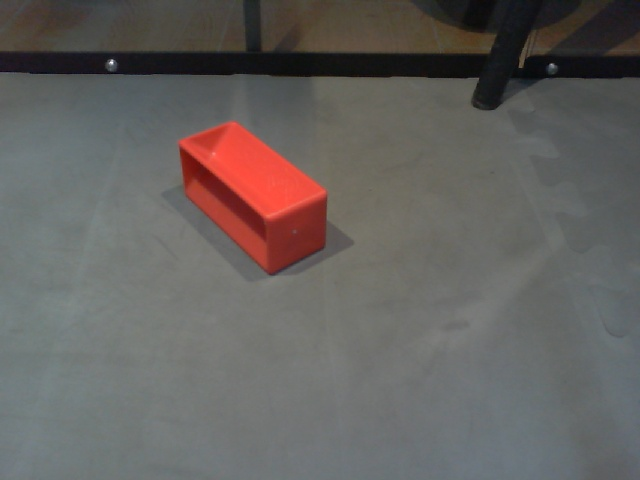RedSample: (176, 118, 329, 277)
